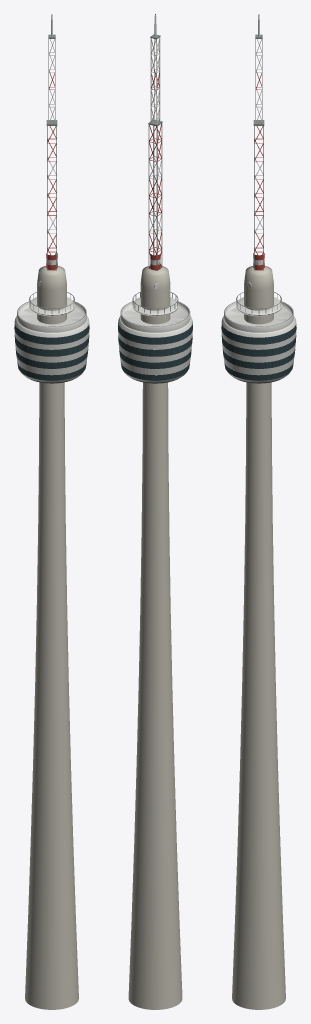
Rendered from fernsehturm-stuttgart-far.glb.
3 renders of one model, left to right at view 1: azimuth 90°, elevation 25°; view 2: azimuth 150°, elevation 25°; view 3: azimuth 270°, elevation 25°, orthographic.
Parts seen in each view (by area): view 1: fernsehturm-stuttgart-0-concrete, fernsehturm-stuttgart-0-aluminium, fernsehturm-stuttgart-0-glow, fernsehturm-stuttgart-0-steel, fernsehturm-stuttgart-0-dark, fernsehturm-stuttgart-0-red; view 2: fernsehturm-stuttgart-0-concrete, fernsehturm-stuttgart-0-aluminium, fernsehturm-stuttgart-0-glow, fernsehturm-stuttgart-0-steel, fernsehturm-stuttgart-0-red, fernsehturm-stuttgart-0-dark; view 3: fernsehturm-stuttgart-0-concrete, fernsehturm-stuttgart-0-aluminium, fernsehturm-stuttgart-0-glow, fernsehturm-stuttgart-0-steel, fernsehturm-stuttgart-0-dark, fernsehturm-stuttgart-0-red.
Part boxes in pixels (left/top/right/bottom): fernsehturm-stuttgart-0-concrete: left=25, top=266, right=78, bottom=1009; fernsehturm-stuttgart-0-aluminium: left=14, top=15, right=89, bottom=382; fernsehturm-stuttgart-0-glow: left=14, top=323, right=89, bottom=380; fernsehturm-stuttgart-0-steel: left=29, top=34, right=74, bottom=313; fernsehturm-stuttgart-0-dark: left=15, top=325, right=89, bottom=383; fernsehturm-stuttgart-0-red: left=46, top=70, right=57, bottom=270; fernsehturm-stuttgart-0-concrete: left=128, top=266, right=182, bottom=1009; fernsehturm-stuttgart-0-aluminium: left=118, top=15, right=192, bottom=382; fernsehturm-stuttgart-0-glow: left=118, top=322, right=192, bottom=380; fernsehturm-stuttgart-0-steel: left=132, top=34, right=178, bottom=313; fernsehturm-stuttgart-0-red: left=149, top=69, right=161, bottom=270; fernsehturm-stuttgart-0-dark: left=118, top=326, right=192, bottom=383; fernsehturm-stuttgart-0-concrete: left=232, top=266, right=285, bottom=1009; fernsehturm-stuttgart-0-aluminium: left=221, top=15, right=296, bottom=382; fernsehturm-stuttgart-0-glow: left=221, top=323, right=296, bottom=380; fernsehturm-stuttgart-0-steel: left=236, top=34, right=281, bottom=313; fernsehturm-stuttgart-0-dark: left=222, top=325, right=296, bottom=383; fernsehturm-stuttgart-0-red: left=253, top=70, right=264, bottom=270.
Size of the model in its own units: 14.99 by 217 by 14.99.
